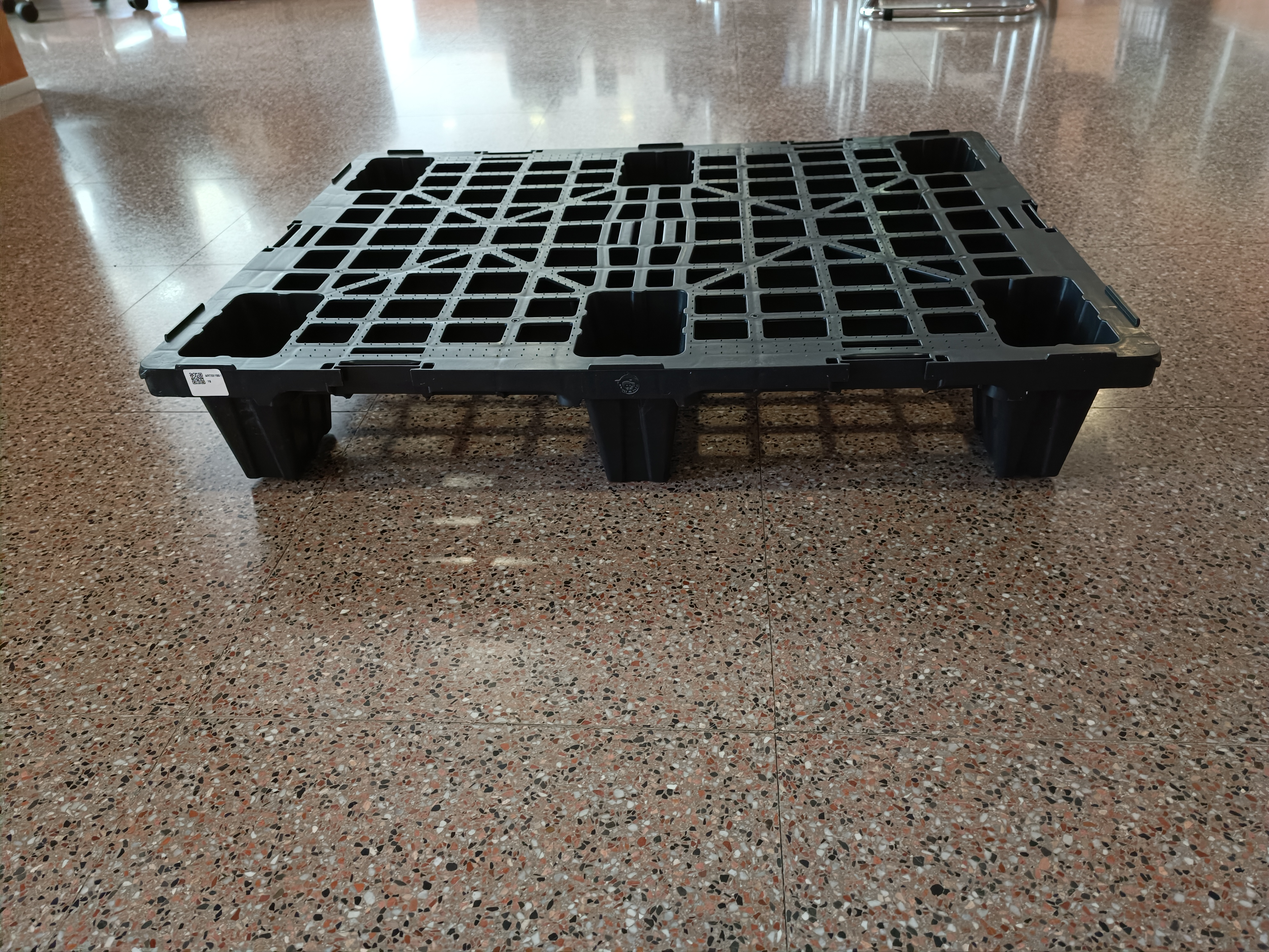block: (176, 387, 291, 487), (581, 383, 690, 487), (996, 379, 1094, 480)
front: (140, 351, 1164, 487)
hole pallet: (670, 376, 1018, 482), (287, 381, 605, 480)
